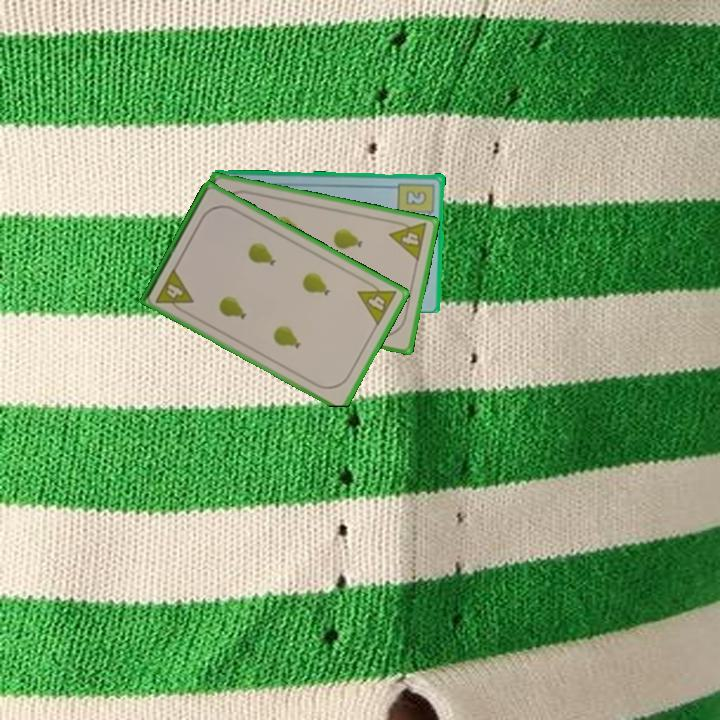2b: (395, 179, 437, 222)
4p: (354, 276, 400, 329), (152, 264, 196, 316), (386, 216, 430, 264)
